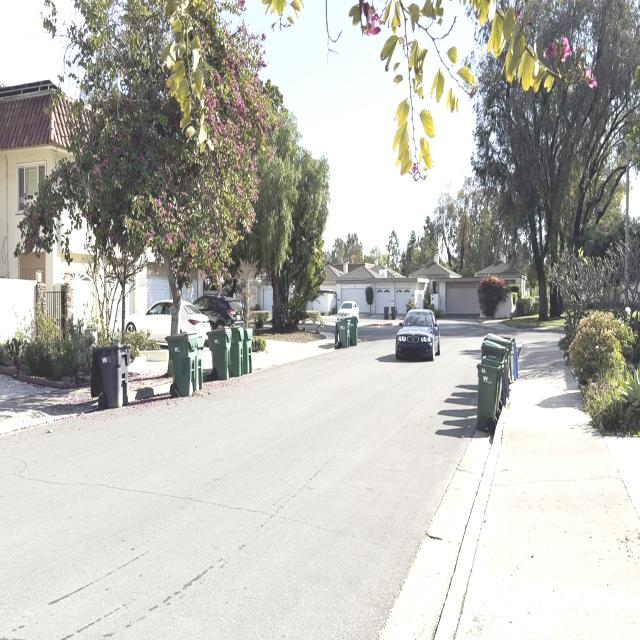Carbeetle: (393, 296, 443, 371)
